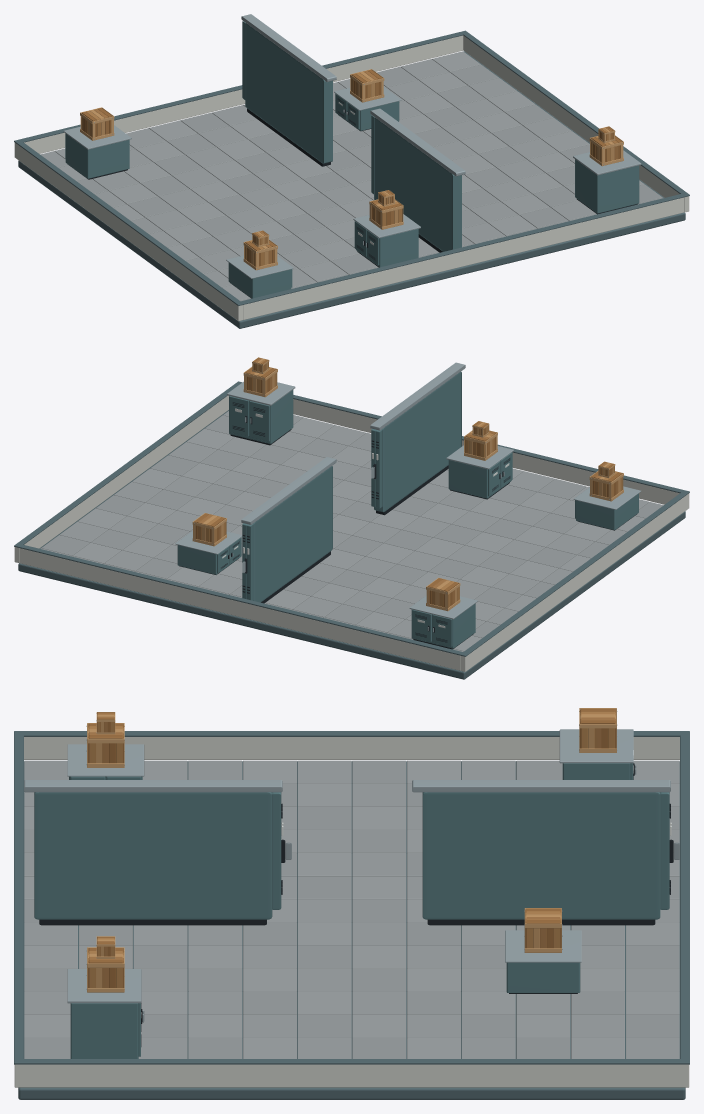
3 renders of one model, top to bottom at view 1: azimuth 30°, elevation 25°; view 2: azimuth 150°, elevation 25°; view 3: azimuth 270°, elevation 25°, orthographic. The views are drawn at different scales.
Parts seen in each view (by area): view 1: item_6, item_8, Cutaway wall.002, Floor foundation, Cutaway wall.003, Cutaway wall, item_0, Cutaway wall.001, item_2, item_13, Wall coping.002, item_5 (+97 smaller); view 2: item_6, item_8, Cutaway wall.003, Floor foundation, Cutaway wall, item_0, Cutaway wall.001, Cutaway wall.002, item_2, item_13, Wall coping.003, item_3 (+100 smaller); view 3: item_8, item_6, Cutaway wall.001, Cutaway wall, Floor foundation, item_0, Wall coping.001, item_3, Wall coping, Wall coping.002, Wall coping.003, item_2 (+91 smaller).
Boxes of the visible parts, box(x1,y1,x2,y2) form: item_6: box(241, 14, 336, 166); item_8: box(370, 108, 465, 252); Cutaway wall.002: box(243, 197, 684, 319); Floor foundation: box(18, 51, 685, 328); Cutaway wall.003: box(24, 35, 463, 153); Cutaway wall: box(14, 143, 243, 321); item_0: box(573, 150, 641, 214); Cutaway wall.001: box(463, 35, 689, 212); item_2: box(63, 125, 131, 179); item_13: box(353, 214, 420, 267); Wall coping.002: box(241, 194, 684, 304); item_5: box(226, 255, 293, 298); item_6: box(241, 457, 336, 603); item_8: box(370, 362, 465, 515); Cutaway wall.003: box(19, 548, 460, 670); Floor foundation: box(18, 410, 685, 679); Cutaway wall: box(460, 493, 689, 671); item_0: box(227, 381, 295, 445); Cutaway wall.001: box(14, 395, 228, 562); Cutaway wall.002: box(293, 399, 679, 504); item_2: box(409, 595, 477, 649); item_13: box(446, 445, 513, 499); Wall coping.003: box(19, 544, 462, 655); item_3: box(175, 531, 242, 574); item_8: box(24, 780, 291, 925); item_6: box(412, 780, 679, 925); Cutaway wall.001: box(14, 1064, 689, 1087); Cutaway wall: box(24, 737, 679, 759); Floor foundation: box(18, 761, 685, 1099); item_0: box(67, 969, 144, 1058); Wall coping.001: box(14, 1059, 689, 1064); item_3: box(505, 930, 581, 993); Wall coping: box(14, 731, 689, 736); Wall coping.002: box(14, 735, 23, 1058); Wall coping.003: box(680, 735, 689, 1058); item_2: box(559, 729, 636, 779).
Size of the model in its own units: 14.36 by 3.09 by 12.36.
